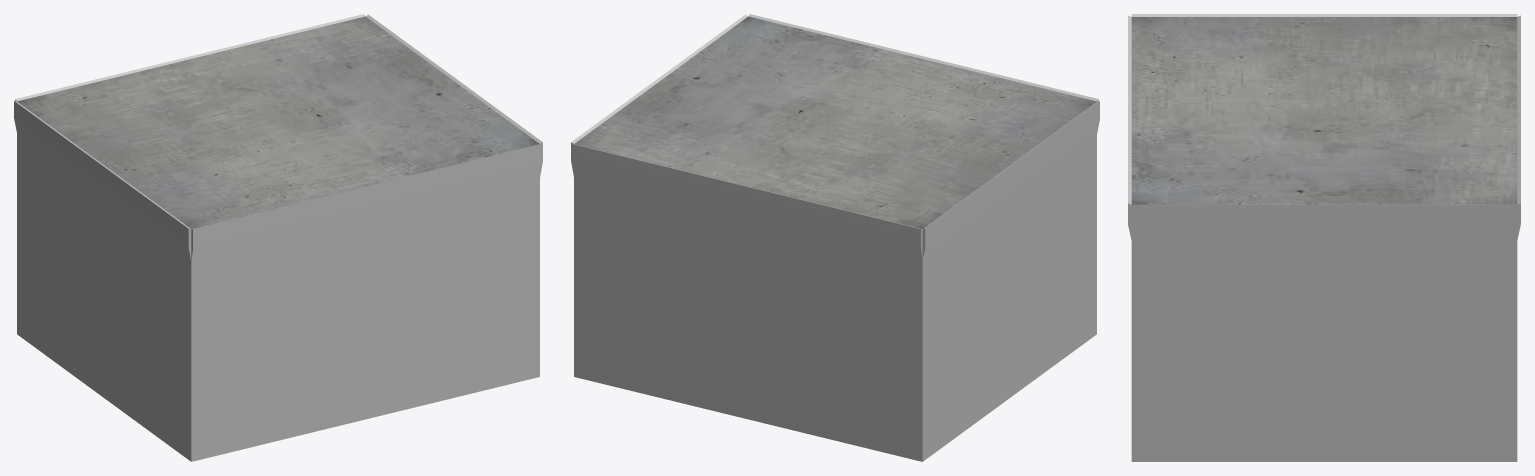
The model's file is 낮은건물1(06-09).FBX.
3 renders of one model, left to right at view 1: azimuth 30°, elevation 25°; view 2: azimuth 150°, elevation 25°; view 3: azimuth 270°, elevation 25°, orthographic. The views are drawn at different scales.
Visible parts, largest first — view 1: Box001; view 2: Box001; view 3: Box001.
Part boxes in pixels (x1,y1,x2,y2): Box001: (14, 14, 542, 461); Box001: (571, 14, 1099, 461); Box001: (1128, 14, 1520, 461).
Bounding box in the file's own units: 152 × 96.23 × 132.
